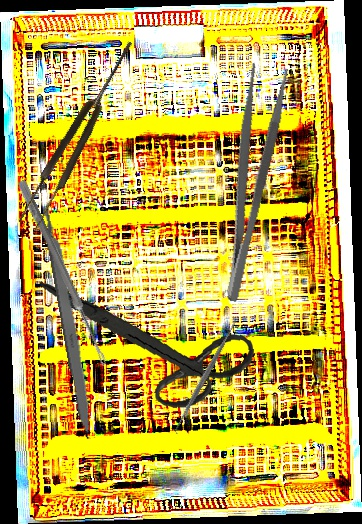Dressing Forceps: (202, 61, 292, 304)
Iris Scissors: (40, 258, 259, 423)
Scalpel Handle: (41, 204, 98, 442)
Spatula Surgical: (167, 314, 244, 436)
Surgical Spoon: (15, 179, 111, 367)
Tissue Forceps: (14, 36, 144, 233)
